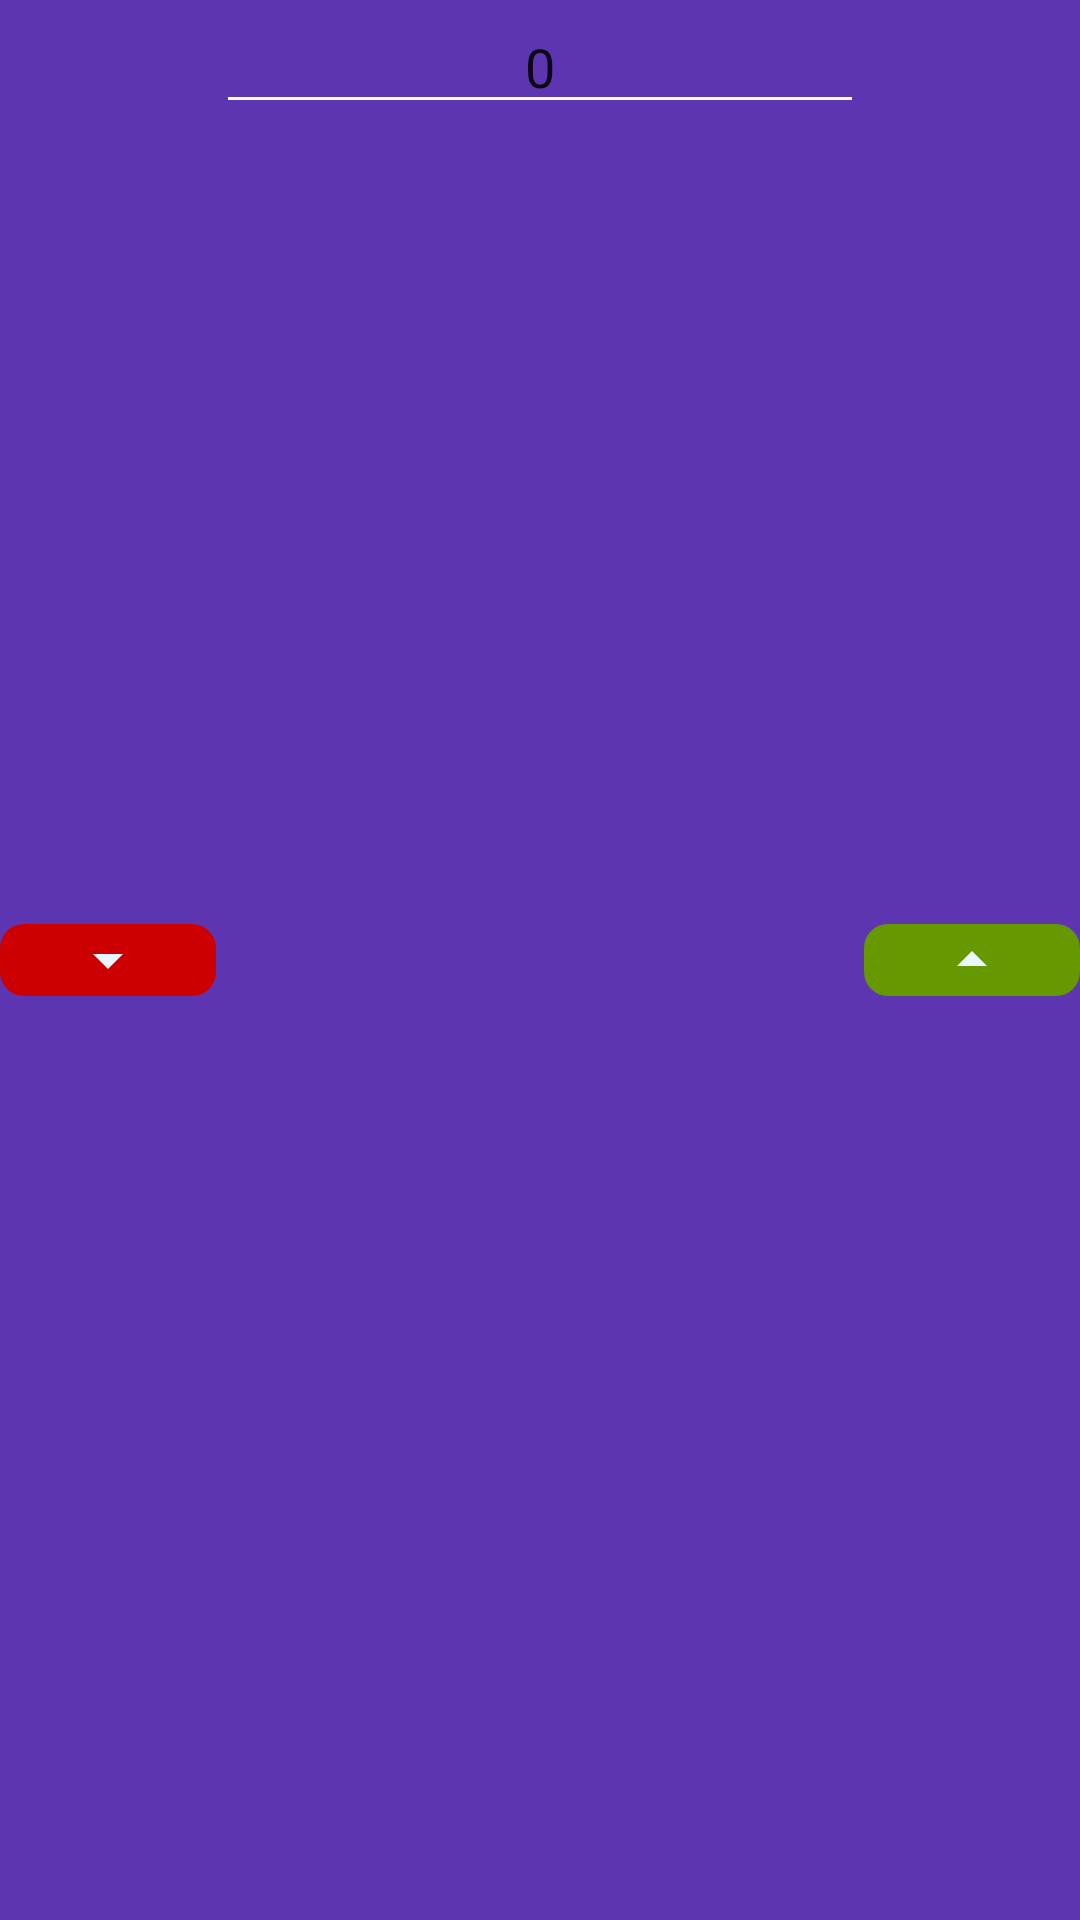

Icons on this 1080 x 1920 Android screen, each with its box as detection(x1, y1, x2, y2):
arrow drop down: detection(0, 924, 216, 996)
arrow drop up: detection(864, 924, 1080, 996)
